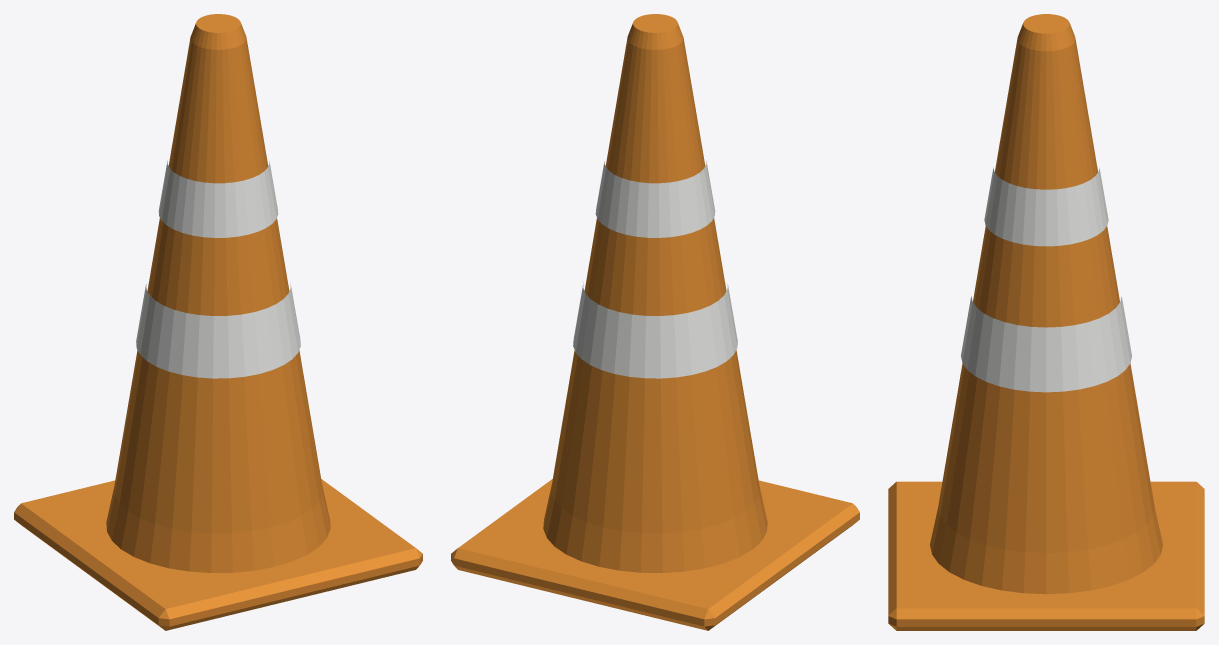
The model's file is cone_transito.glb.
3 renders of one model, left to right at view 1: azimuth 30°, elevation 25°; view 2: azimuth 150°, elevation 25°; view 3: azimuth 270°, elevation 25°, orthographic. The views are drawn at different scales.
Visible parts, largest first — view 1: cone_transito_laranja, cone_transito_branco_refletivo; view 2: cone_transito_laranja, cone_transito_branco_refletivo; view 3: cone_transito_laranja, cone_transito_branco_refletivo.
Part boxes in pixels (x1,y1,x2,y2): cone_transito_laranja: (14, 14, 422, 630); cone_transito_branco_refletivo: (136, 160, 300, 378); cone_transito_laranja: (451, 14, 859, 630); cone_transito_branco_refletivo: (573, 160, 737, 378); cone_transito_laranja: (888, 14, 1204, 630); cone_transito_branco_refletivo: (961, 167, 1131, 392).
Size of the model in its own units: 0.38 by 0.72 by 0.38.
